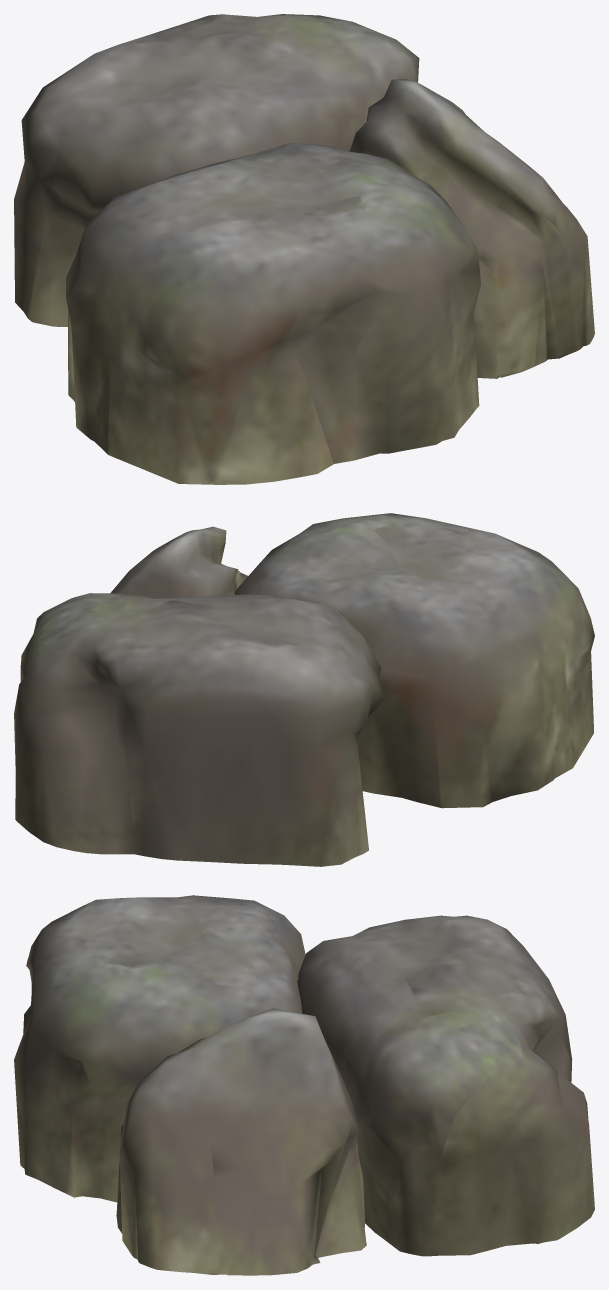
File: SM_Cobble_C.fbx
3 views of the same model, one above another, from view 1: azimuth 30°, elevation 25°; view 2: azimuth 150°, elevation 25°; view 3: azimuth 270°, elevation 25° (orthographic). The views are drawn at different scales.
Parts seen in each view (by area): view 1: SM_Cobble_C_LOD0; view 2: SM_Cobble_C_LOD0; view 3: SM_Cobble_C_LOD0.
Part boxes in pixels (bbox=[...]): SM_Cobble_C_LOD0: bbox=[14, 14, 594, 484]; SM_Cobble_C_LOD0: bbox=[14, 513, 594, 866]; SM_Cobble_C_LOD0: bbox=[14, 895, 594, 1275].
Size of the model in its own units: 47.96 by 52.3 by 20.99.
